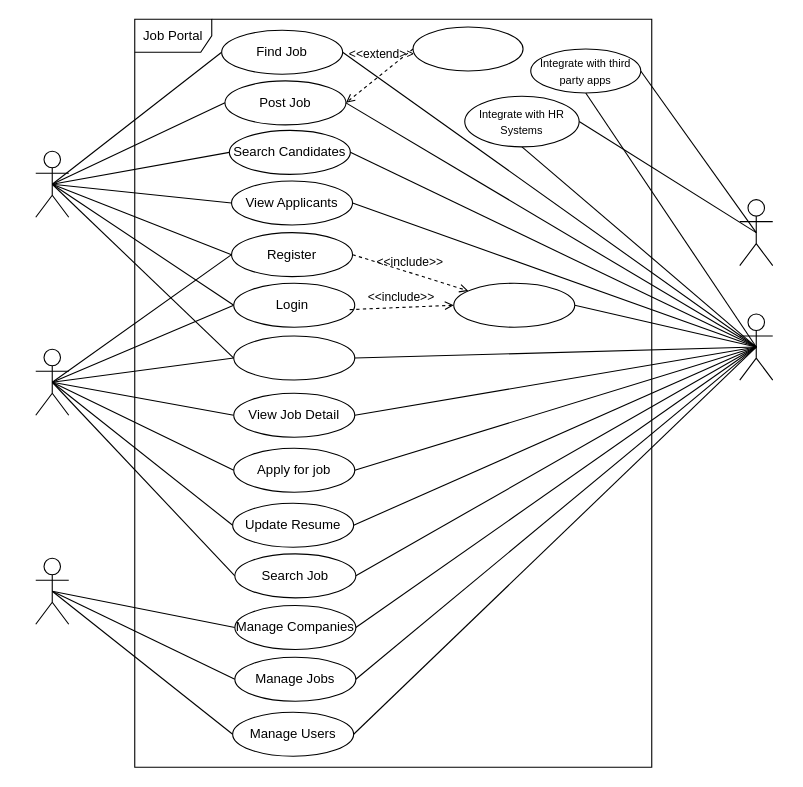
The diagram is 803 pixels wide and 787 high, and some of its shapes have lost their labels. The shapes that lost their labels are listed below. From the top down, each one's box as (x1, y1, x2, y2) in pixels, then its label:
(412, 26, 523, 71): Social Media Sharings
(35, 150, 69, 217): Employer
(739, 199, 773, 266): API
(453, 282, 575, 327): Authentication
(233, 335, 355, 380): Update profile
(739, 313, 773, 380): Database
(35, 348, 69, 415): Job Seeker
(35, 557, 69, 624): Admin
